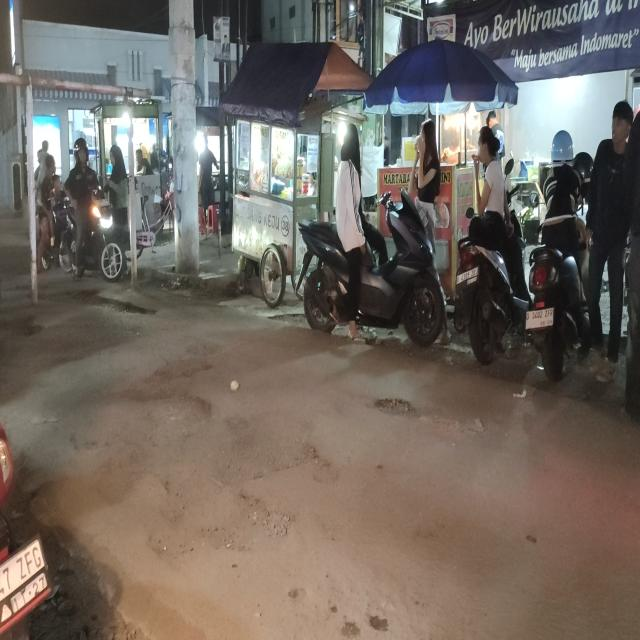helmet: (74, 139, 89, 167)
no-helmet: (341, 122, 366, 164), (478, 123, 500, 163), (45, 154, 56, 176), (51, 174, 60, 191)
